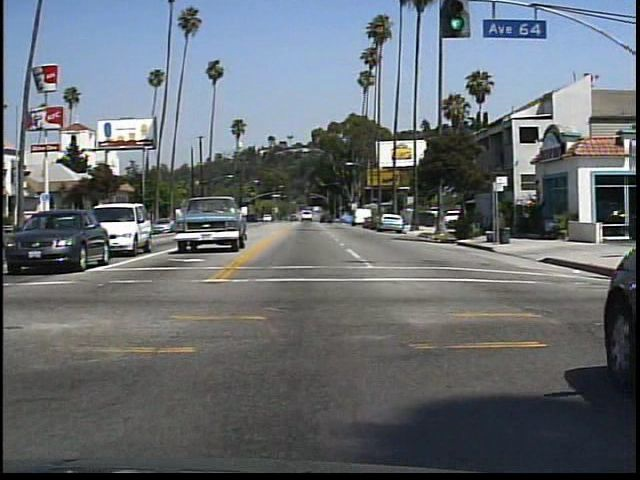person: (468, 199, 490, 243)
